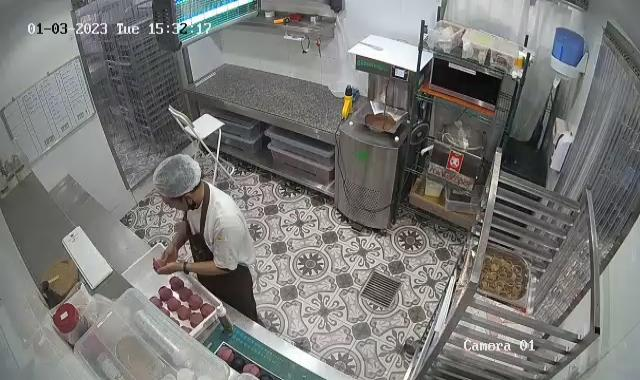hairnet: (153, 155, 201, 205)
